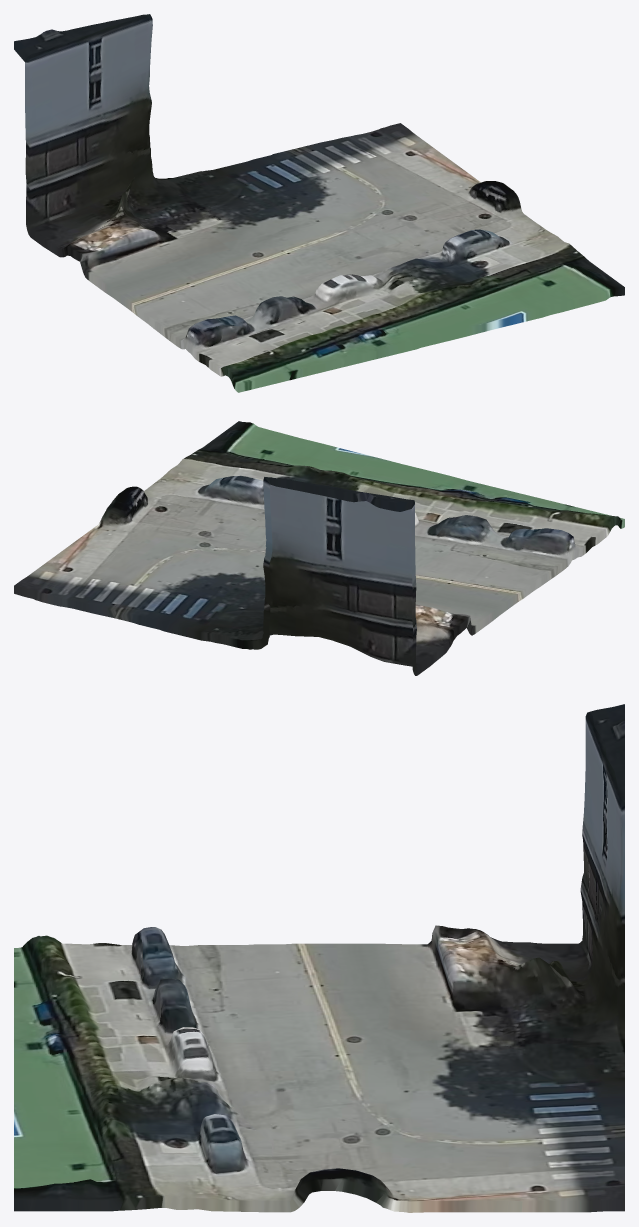
Rendered from z20-167780-405214-h0-yup-uvflip-v3-world.glb.
3 renders of one model, top to bottom at view 1: azimuth 30°, elevation 25°; view 2: azimuth 150°, elevation 25°; view 3: azimuth 270°, elevation 25°, orthographic. The views are drawn at different scales.
Size of the model in its own units: 30.16 by 14.16 by 30.32.
Materials: 1 (1 with a texture image).
